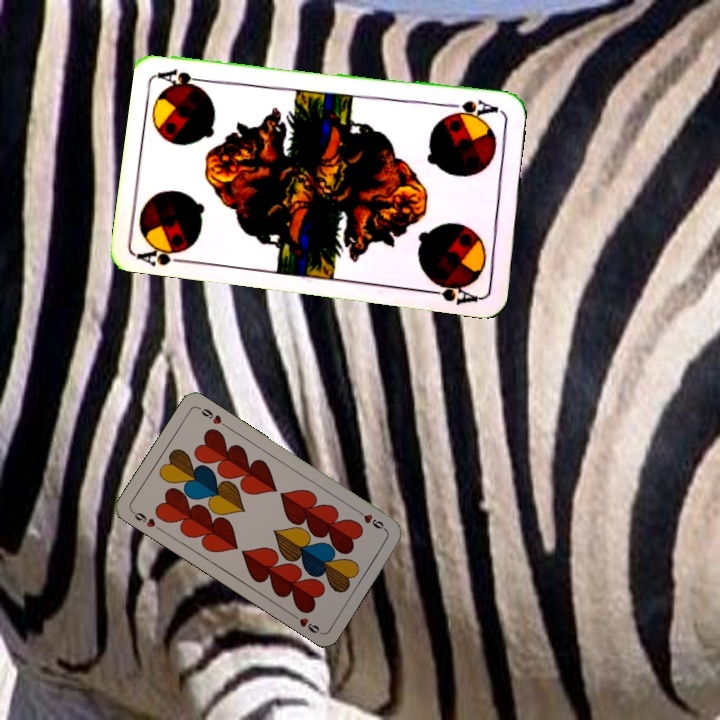H9: (128, 507, 164, 534), (353, 506, 389, 533)
SA: (134, 238, 194, 268), (445, 96, 506, 123)
